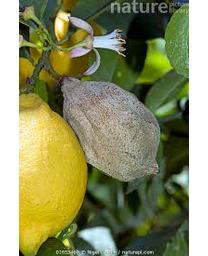lemon: (19, 91, 86, 255), (62, 73, 161, 181)
